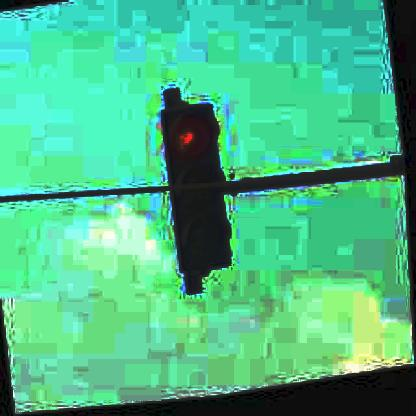Traffic Light -Red-: (164, 104, 236, 274)
